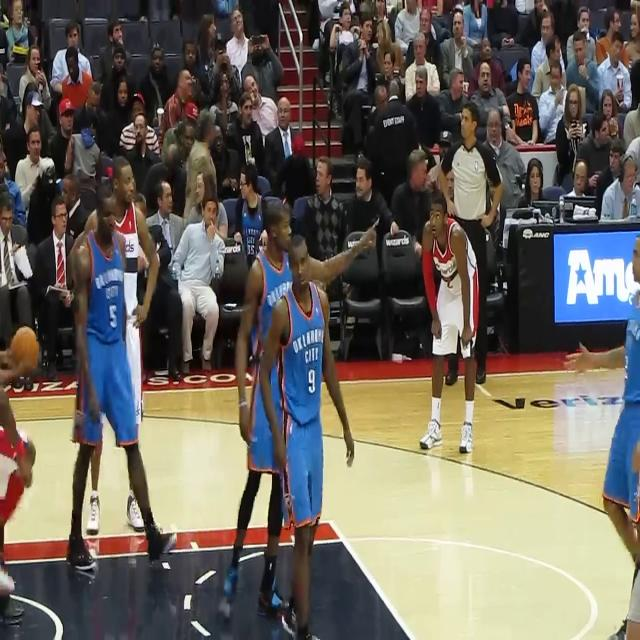ball: (8, 326, 39, 378)
